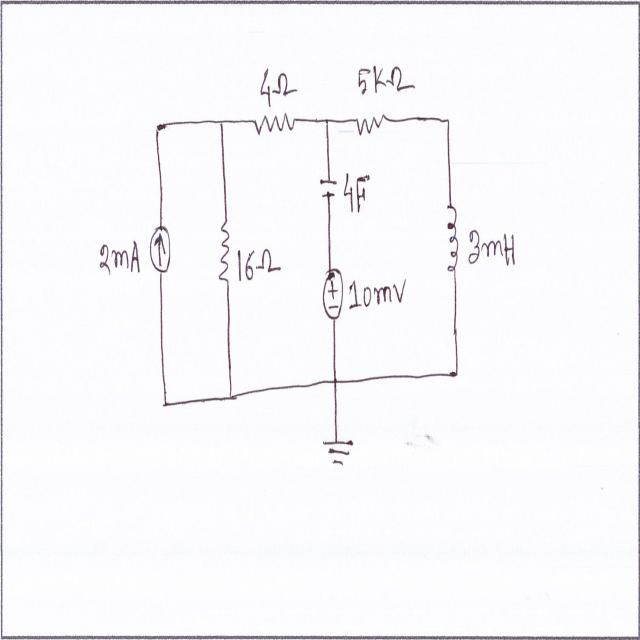capacitor: (318, 177, 339, 206)
current_source: (148, 224, 173, 276)
ground: (320, 435, 358, 474)
inductor: (445, 201, 464, 276)
resistor: (252, 108, 296, 144), (351, 105, 386, 142), (217, 214, 234, 288)
voltage_source: (324, 264, 346, 326)
